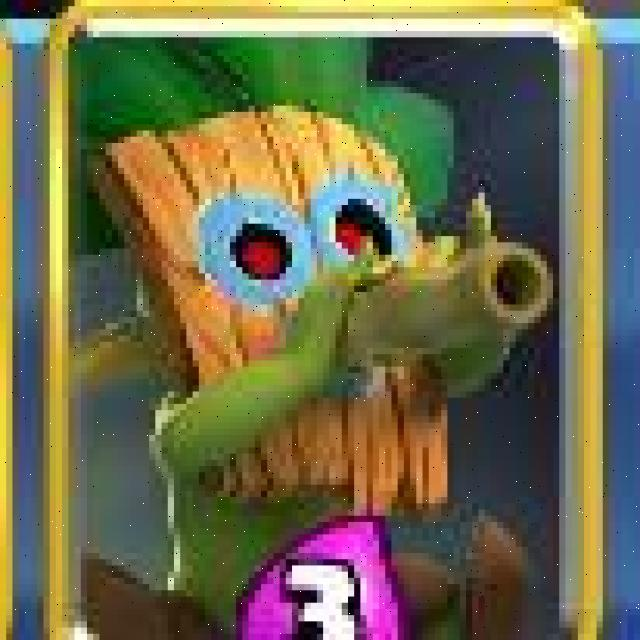Dart_Goblin: (41, 0, 607, 640)
